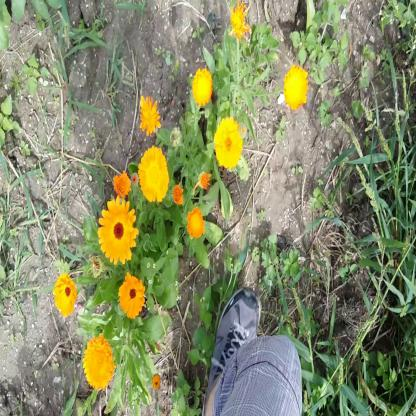marigold: (100, 201, 134, 262), (138, 145, 166, 201), (83, 335, 112, 388), (216, 116, 243, 166), (118, 274, 144, 320), (284, 64, 308, 108), (54, 274, 75, 314), (138, 95, 159, 130), (193, 69, 213, 104), (187, 208, 206, 240), (230, 4, 248, 37), (113, 172, 132, 198)
